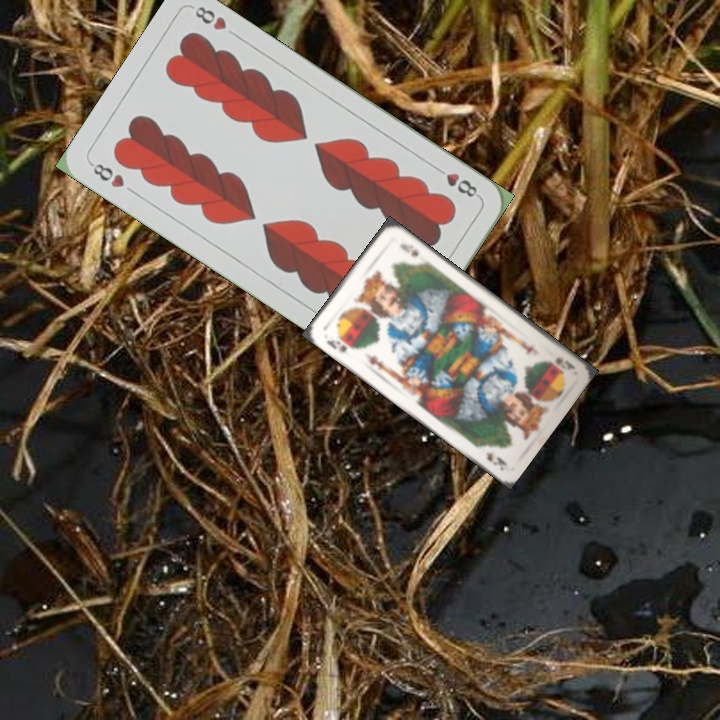H8: (430, 162, 483, 201), (86, 158, 127, 191)
SK: (323, 335, 350, 355), (551, 353, 578, 373)
